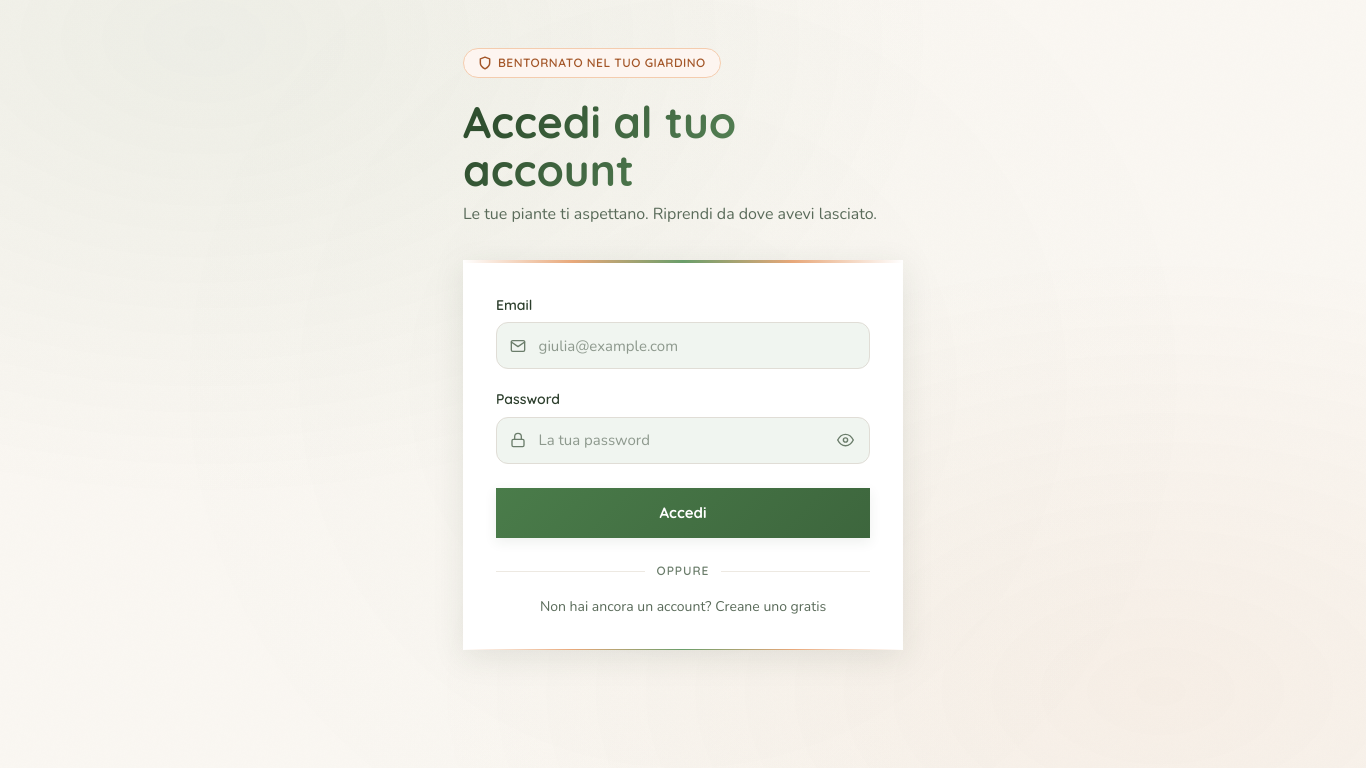
Scenario: PaginaAccesso › submit con credenziali valide › chiama fetch e mostra l'overlay di successo con 'Bentornato!'
Type "giulia@esempio.it" into the field labelled "Email".
click(683, 346); type("giulia@esempio.it")  # box 496,322 -> 870,369
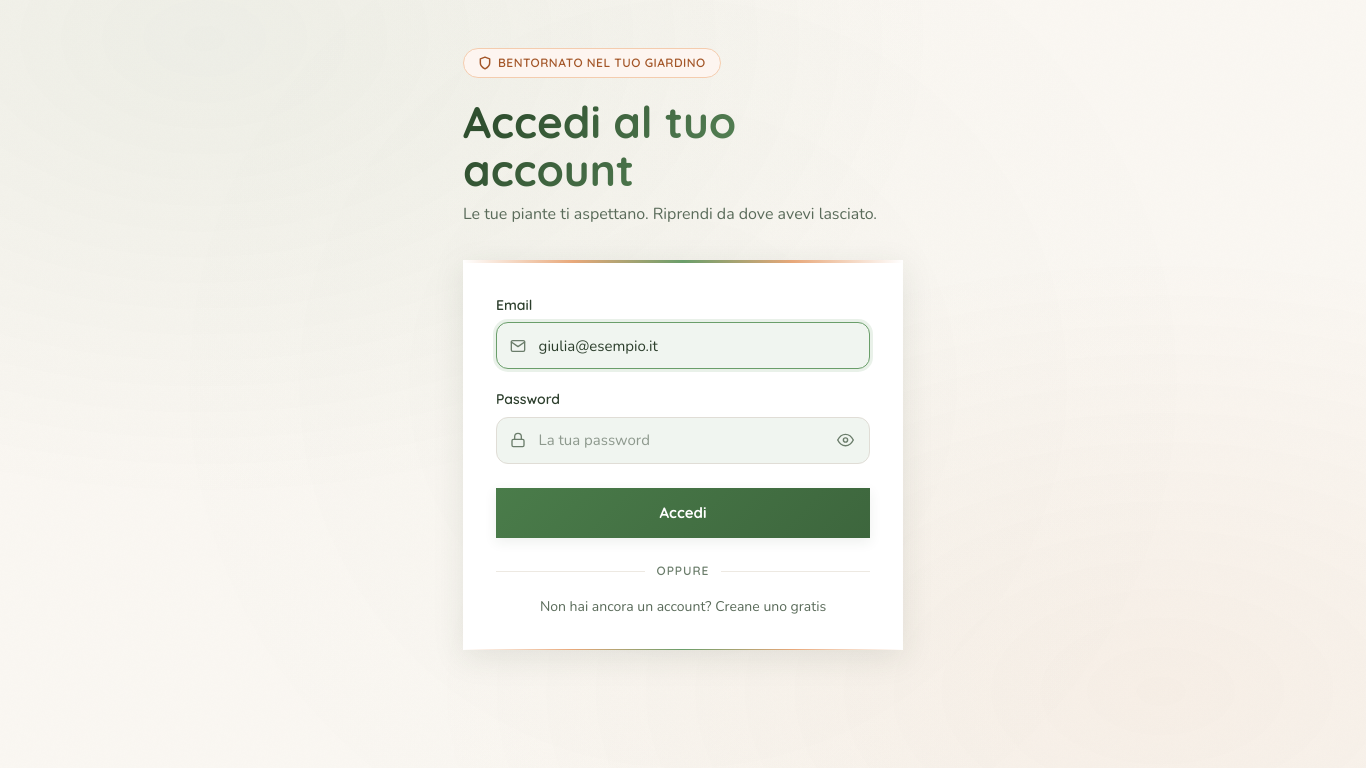
Type "Password123!" into the password field labelled "Password".
click(683, 440); type("Password123!")  # box 496,417 -> 870,464
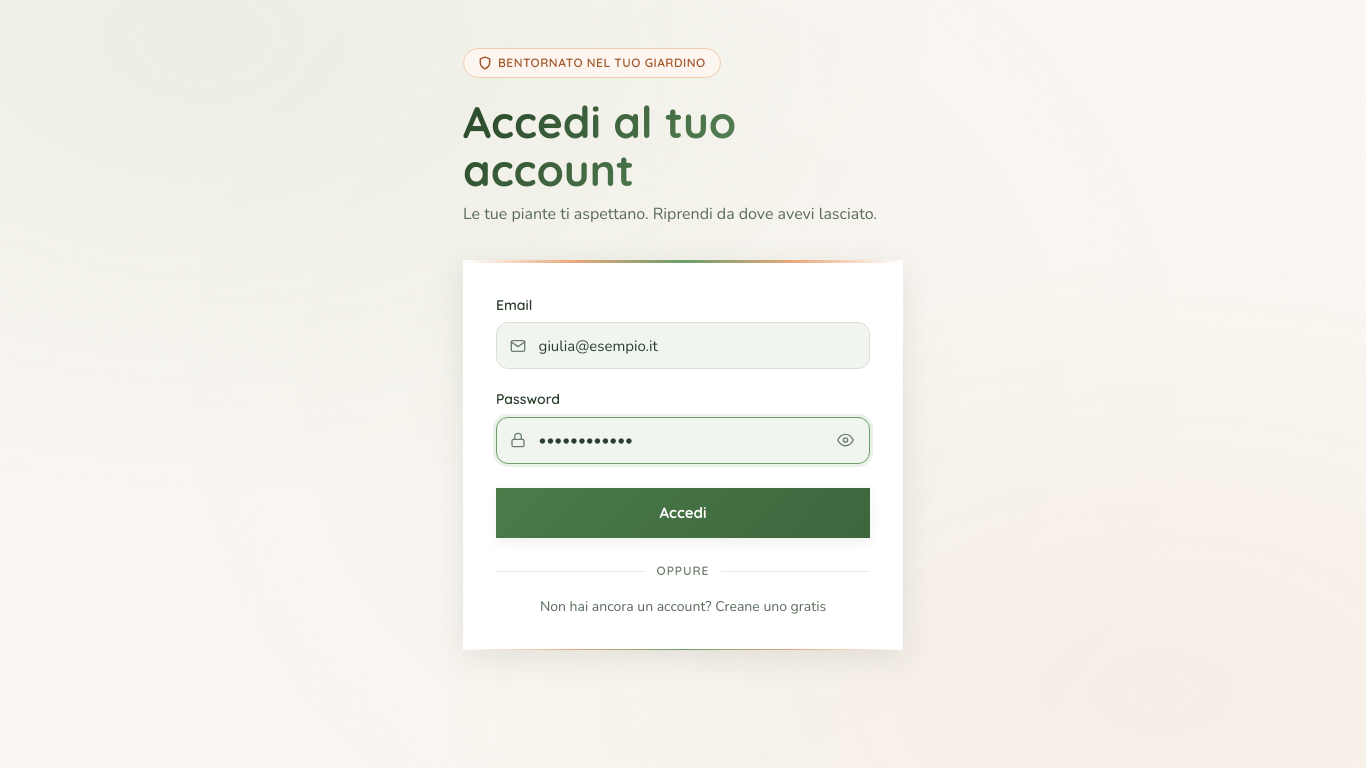
Click the button "Accedi".
click(683, 513)  # box 496,488 -> 870,538
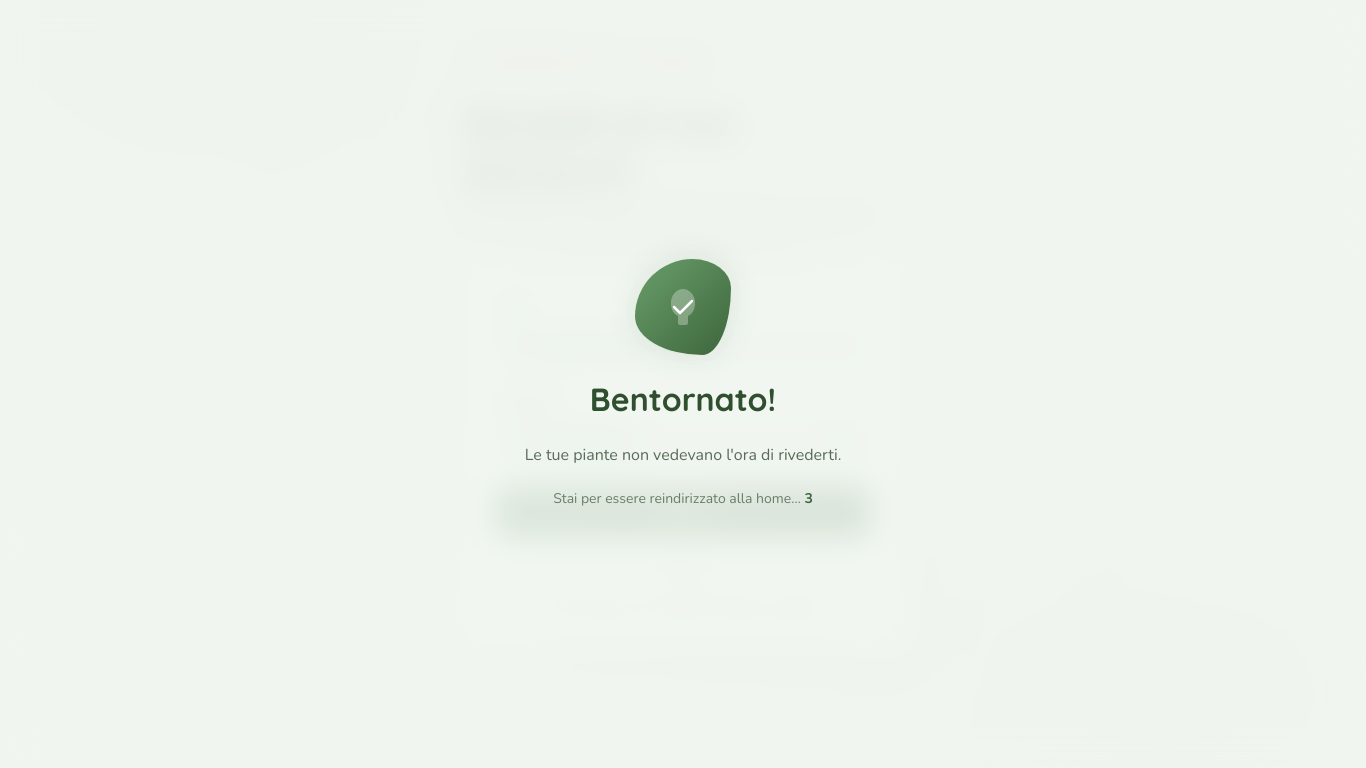
Now the heading "Bentornato!" is shown, box 590,375 -> 776,423
